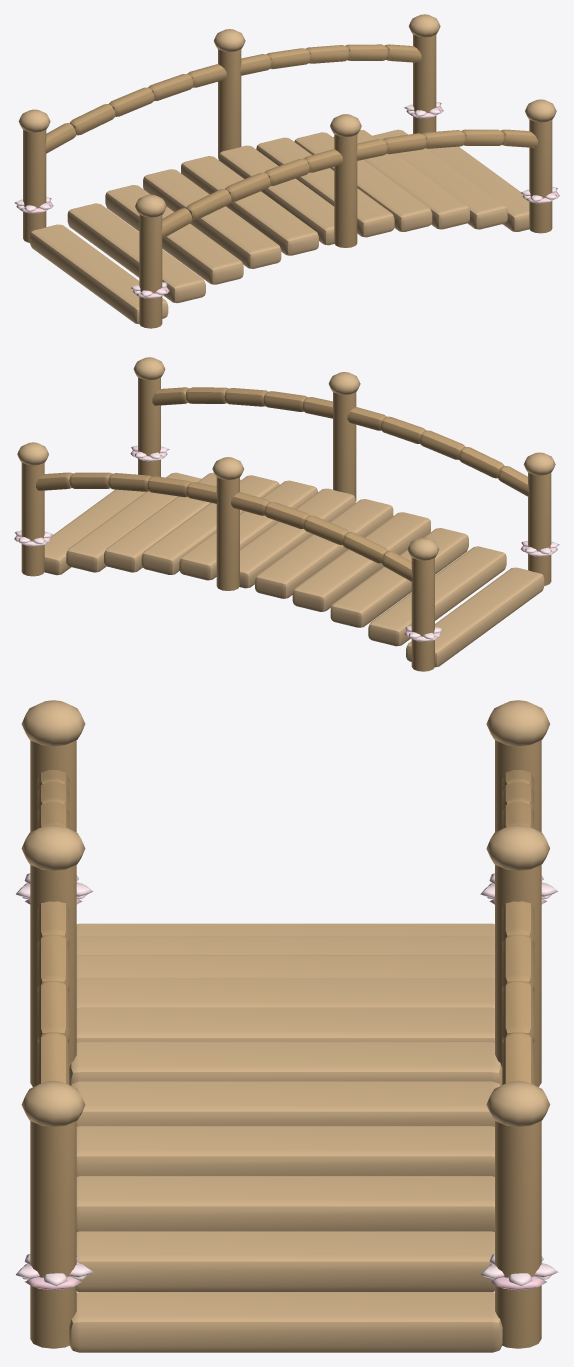
Rendered from bridge_spring_v1.glb.
3 renders of one model, top to bottom at view 1: azimuth 30°, elevation 25°; view 2: azimuth 150°, elevation 25°; view 3: azimuth 270°, elevation 25°, orthographic. The views are drawn at different scales.
Bounding box in the file's own units: 3.36 × 1.25 × 1.87.
